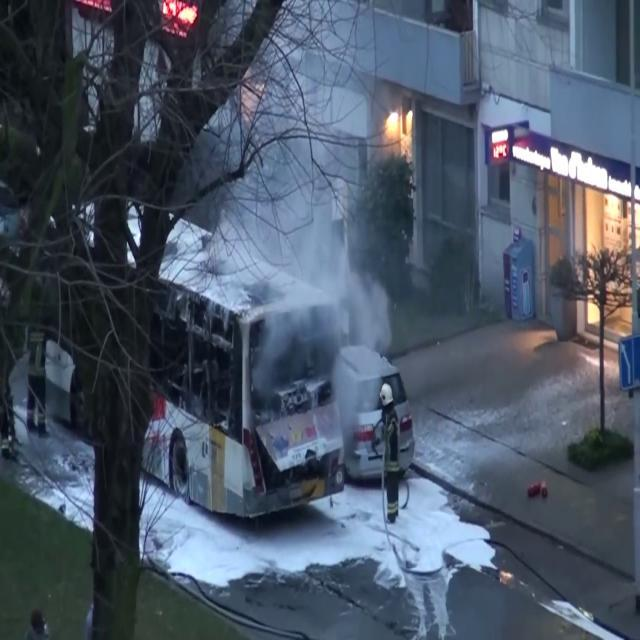Smoke: (218, 4, 398, 438)
